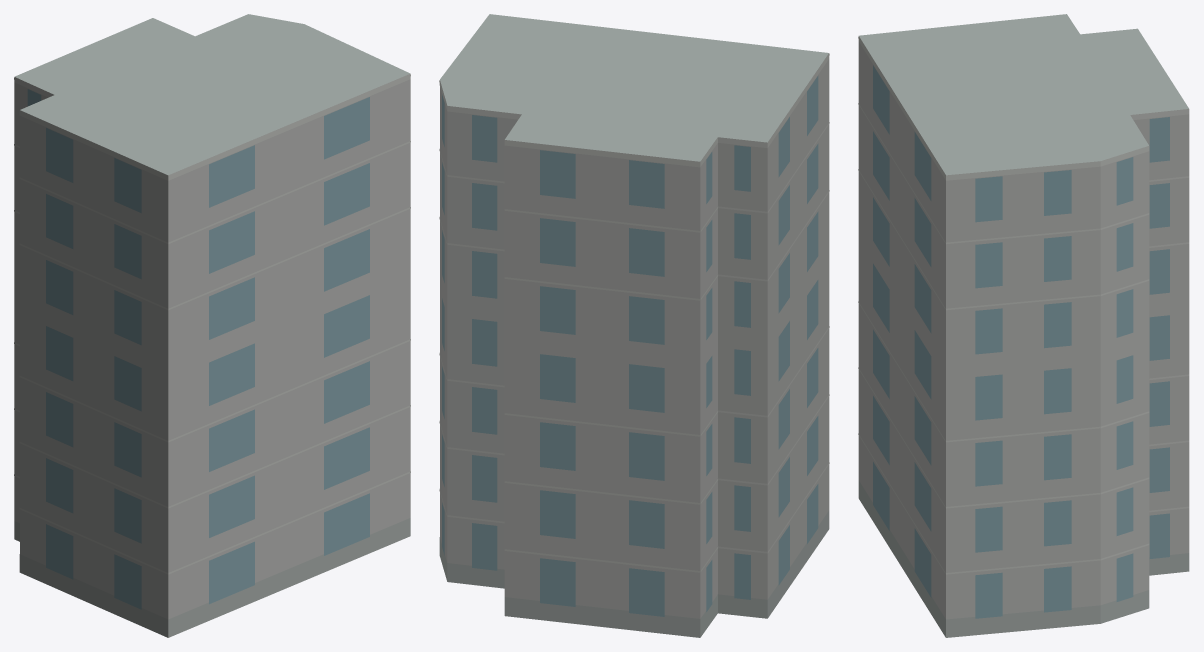
Rendered from survey-upis-32823587.glb.
The picture shows the model from 3 angles, left to right: view 1: azimuth 30°, elevation 25°; view 2: azimuth 150°, elevation 25°; view 3: azimuth 270°, elevation 25°; orthographic projection. The views are drawn at different scales.
Parts seen in each view (by area): view 1: survey-upis-32823587.tmp; view 2: survey-upis-32823587.tmp; view 3: survey-upis-32823587.tmp.
Boxes of the visible parts, left/top/right/bottom form: survey-upis-32823587.tmp: left=14, top=14, right=410, bottom=637; survey-upis-32823587.tmp: left=439, top=14, right=829, bottom=637; survey-upis-32823587.tmp: left=858, top=14, right=1189, bottom=637.
Size of the model in its own units: 15.43 by 20.6 by 13.37.
